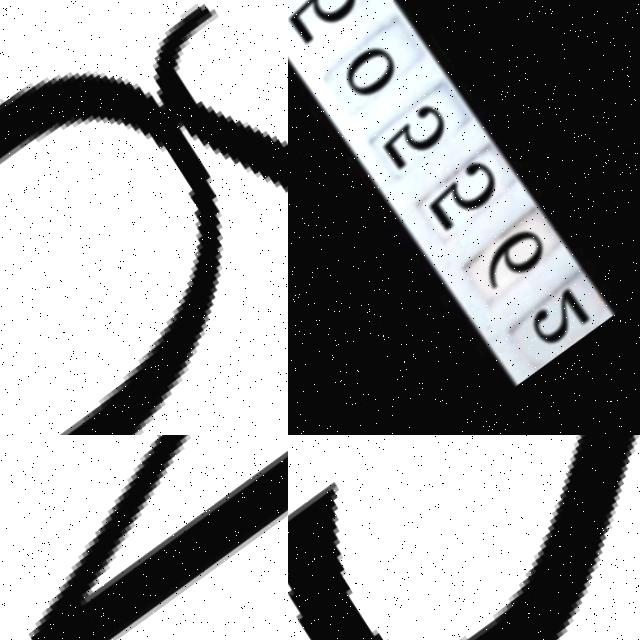0: (314, 23, 424, 128)
2: (288, 435, 640, 640), (510, 279, 610, 375)
5: (412, 151, 518, 251), (366, 94, 464, 187), (288, 0, 374, 59)
6: (466, 218, 565, 313)
M: (0, 435, 288, 640)
Q: (0, 0, 288, 435)
